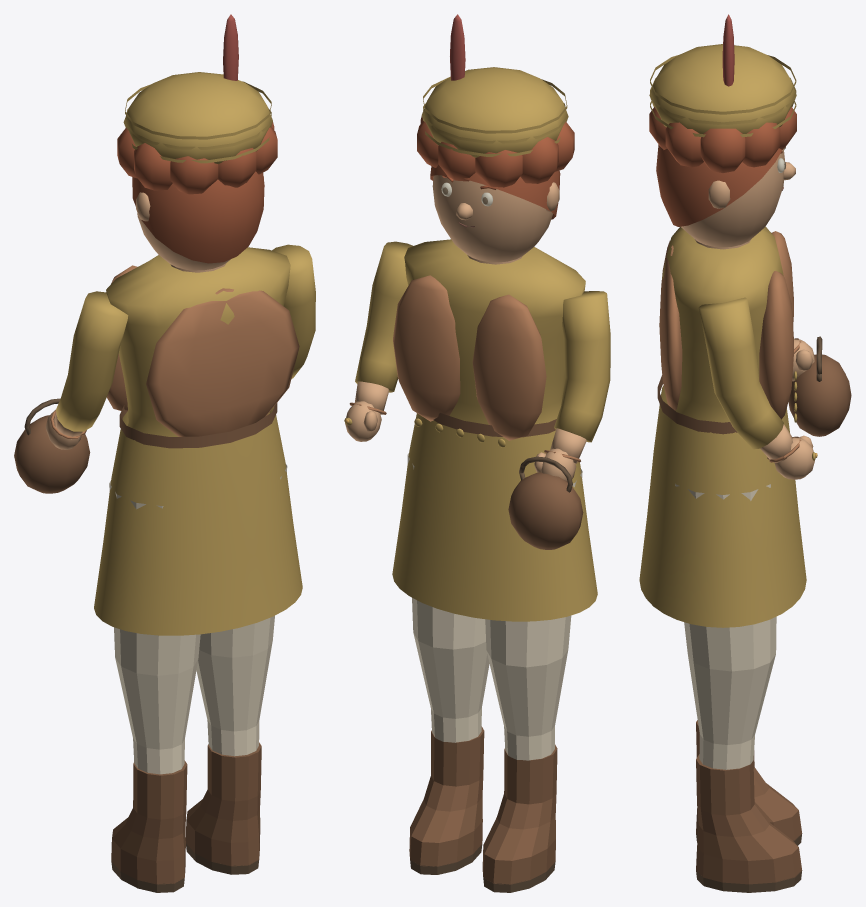
File: SM_NPC_CHISPA.glb
3 views of the same model, side by side, from view 1: azimuth 30°, elevation 25°; view 2: azimuth 150°, elevation 25°; view 3: azimuth 270°, elevation 25° (orthographic). The views are drawn at different scales.
Parts seen in each view (by area): view 1: SM_NPC_CHISPA_BODY, SM_NPC_CHISPA_HAIR, SM_NPC_CHISPA_LEG_L, SM_NPC_CHISPA_LEG_R, SM_NPC_CHISPA_ARM_L, SM_NPC_CHISPA_ARM_R, SM_NPC_CHISPA_HEAD; view 2: SM_NPC_CHISPA_BODY, SM_NPC_CHISPA_LEG_L, SM_NPC_CHISPA_HAIR, SM_NPC_CHISPA_LEG_R, SM_NPC_CHISPA_ARM_L, SM_NPC_CHISPA_HEAD, SM_NPC_CHISPA_ARM_R; view 3: SM_NPC_CHISPA_BODY, SM_NPC_CHISPA_LEG_R, SM_NPC_CHISPA_HAIR, SM_NPC_CHISPA_ARM_R, SM_NPC_CHISPA_HEAD, SM_NPC_CHISPA_ARM_L, SM_NPC_CHISPA_LEG_L.
Boxes of the visible parts, x1,y1,x2,y2 form: SM_NPC_CHISPA_BODY: (94,247,302,635); SM_NPC_CHISPA_HAIR: (117,14,277,263); SM_NPC_CHISPA_LEG_L: (109,481,200,892); SM_NPC_CHISPA_LEG_R: (185,464,287,874); SM_NPC_CHISPA_ARM_L: (14,291,128,493); SM_NPC_CHISPA_ARM_R: (272,244,315,378); SM_NPC_CHISPA_HEAD: (136,177,263,270); SM_NPC_CHISPA_BODY: (392,239,597,621); SM_NPC_CHISPA_LEG_L: (482,469,582,892); SM_NPC_CHISPA_HAIR: (417,14,574,219); SM_NPC_CHISPA_LEG_R: (407,452,489,874); SM_NPC_CHISPA_ARM_L: (508,291,610,549); SM_NPC_CHISPA_HEAD: (432,175,559,262); SM_NPC_CHISPA_ARM_R: (344,241,412,441); SM_NPC_CHISPA_BODY: (639,226,806,627); SM_NPC_CHISPA_LEG_R: (675,484,802,892); SM_NPC_CHISPA_HAIR: (649,14,796,226); SM_NPC_CHISPA_ARM_R: (698,297,817,479); SM_NPC_CHISPA_HEAD: (681,149,795,247); SM_NPC_CHISPA_ARM_L: (788,336,851,436); SM_NPC_CHISPA_LEG_L: (696,720,802,845).
Bounding box in the file's own units: 0.6323 × 2.01 × 0.4477.
